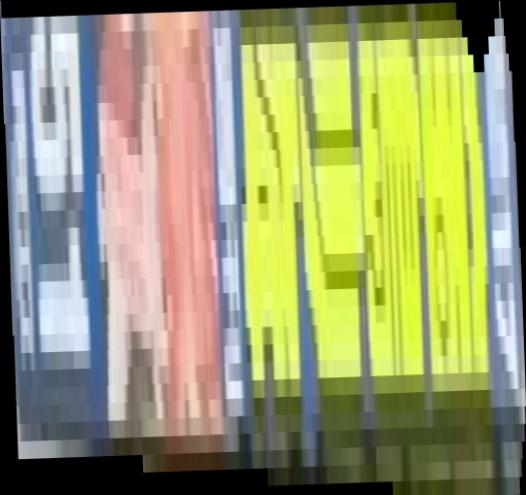flat: (1, 1, 526, 495)
